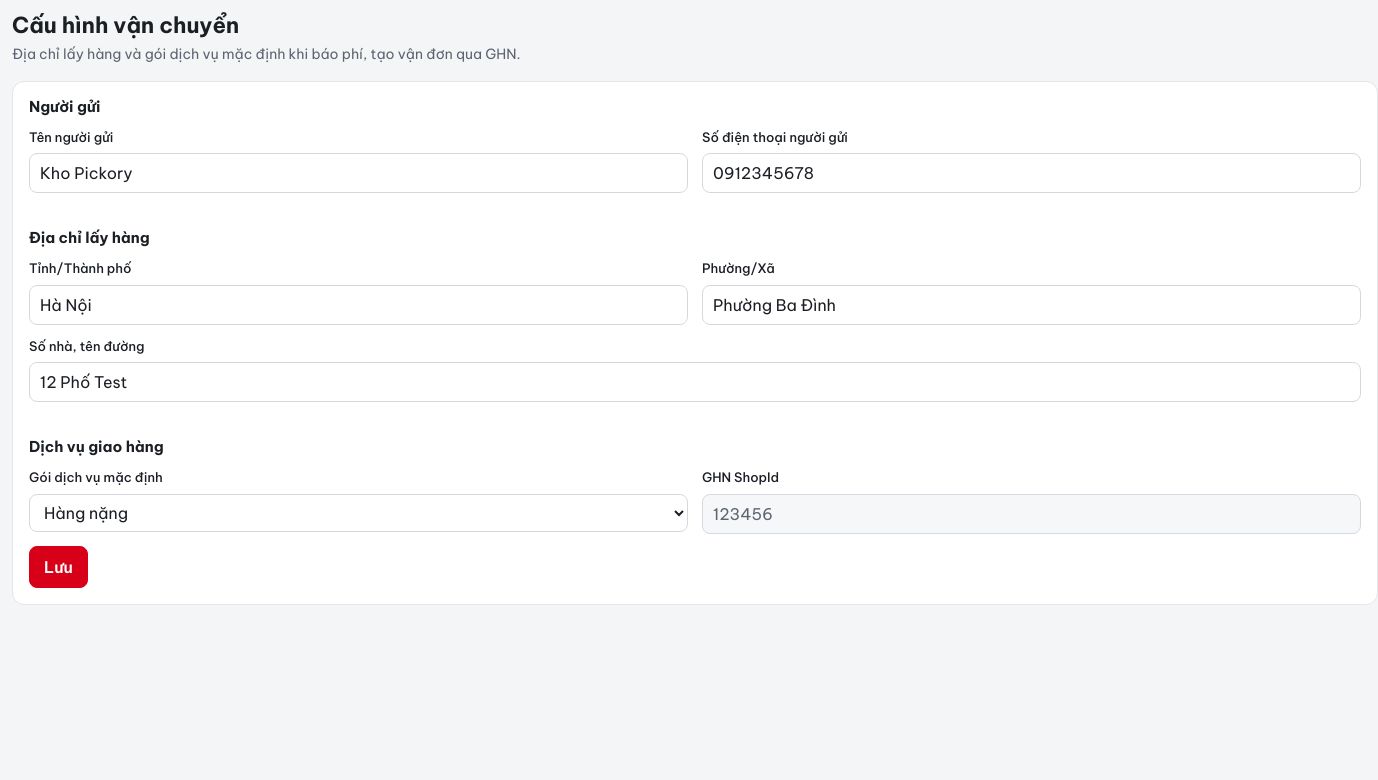
Test: ShippingSettingsPage: lưu › nút Lưu tắt khi đang gửi nên không gửi hai lần
The image size is (1378, 780).
Click the submit button: (58, 566) [29,546,88,588]
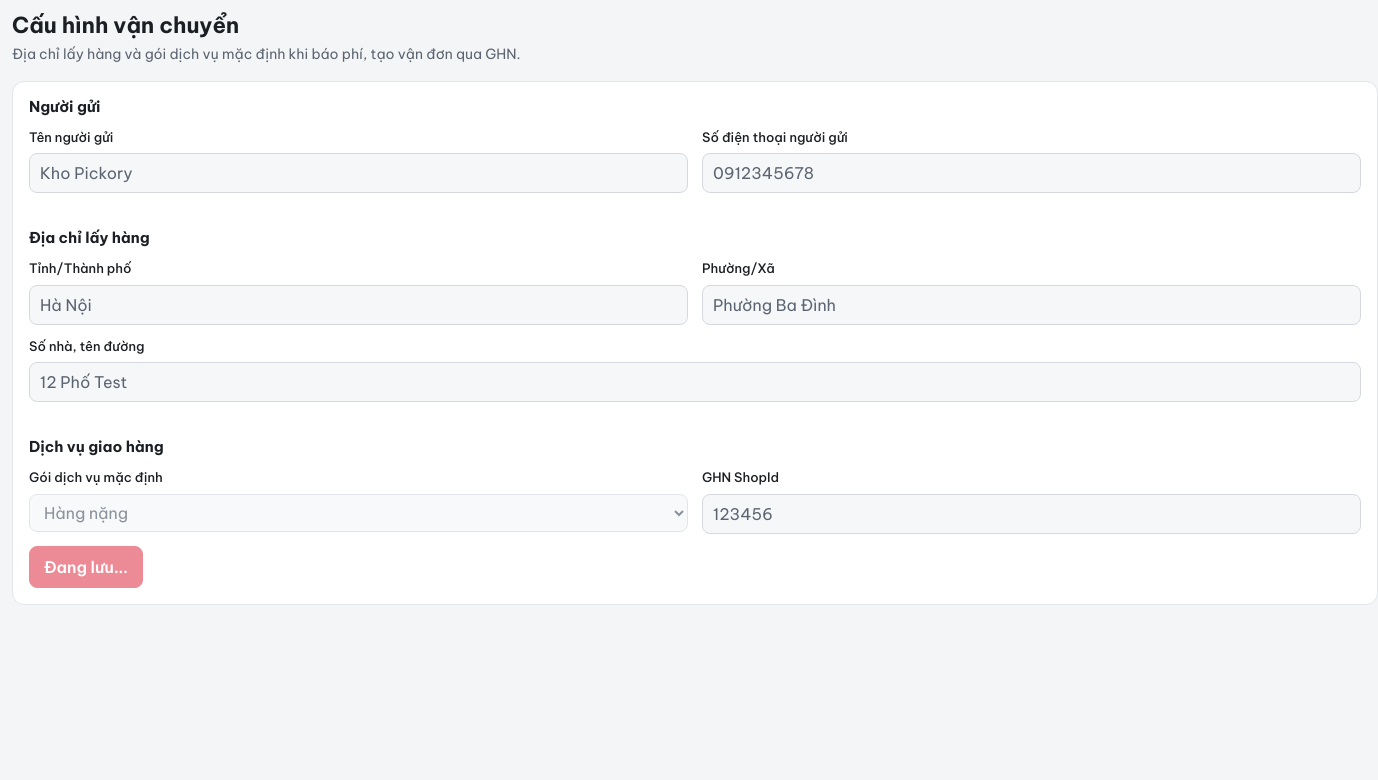
Result: the submit button is disabled
Click the submit button: (86, 566) [29,546,143,588]
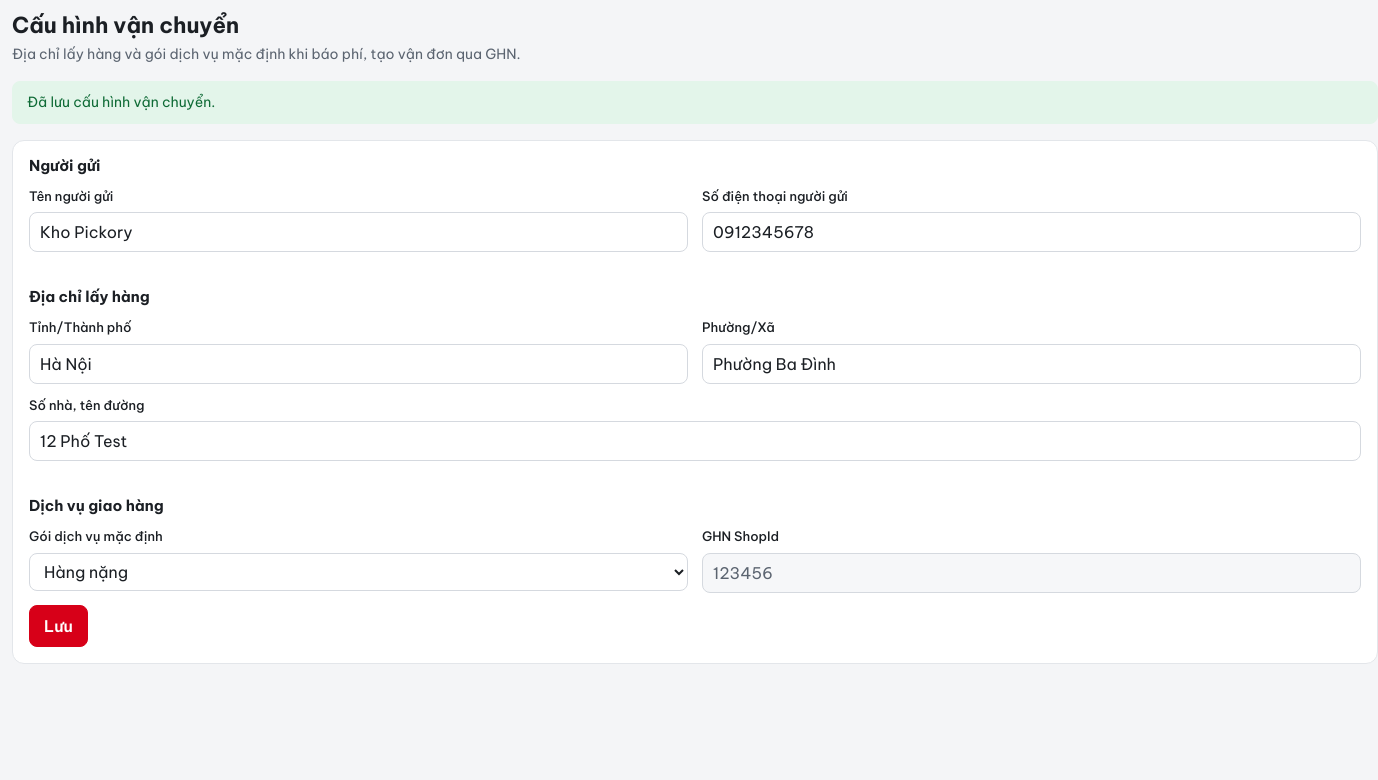
Result: the submit button is enabled at [29,604,88,646]
